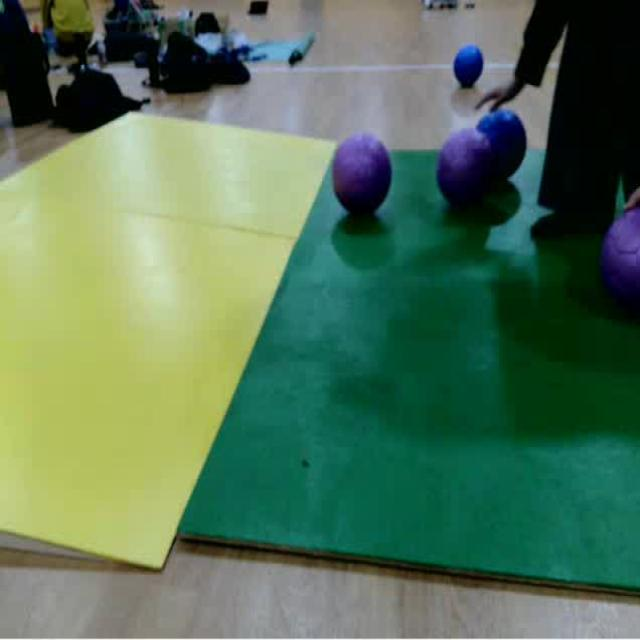blue_ball: (604, 210, 640, 326), (496, 108, 530, 185), (452, 44, 486, 90)
purple_ball: (331, 131, 394, 224), (434, 126, 498, 215)
